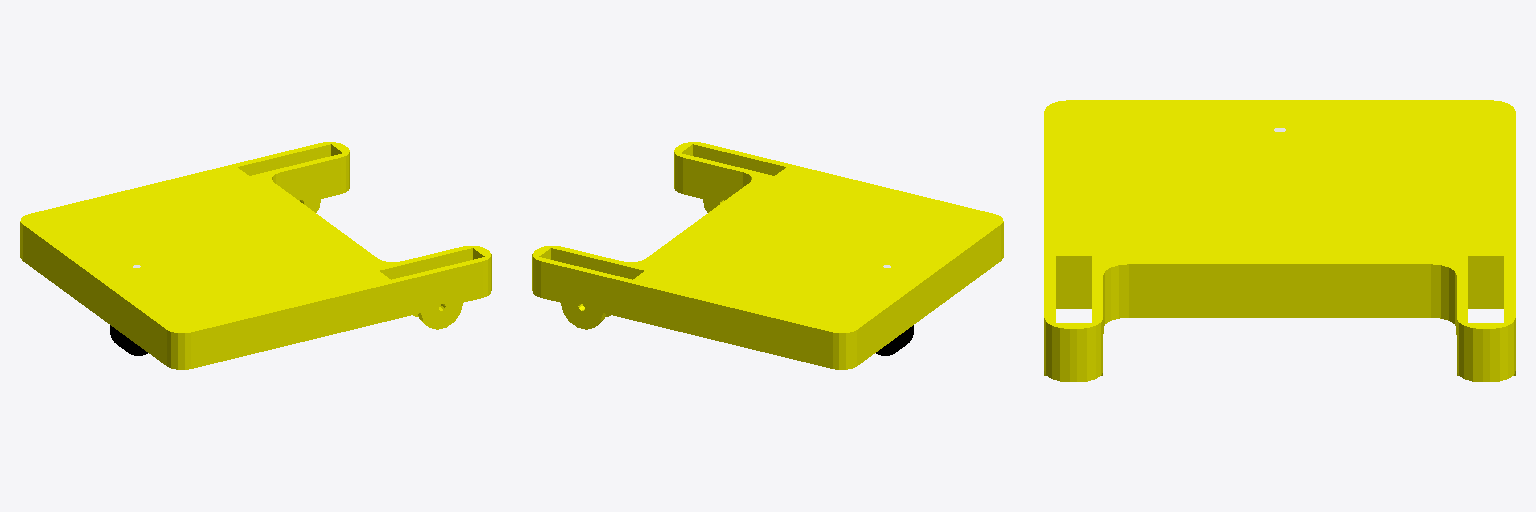
robot.urdf — tricycle_mobile_robot:
<?xml version="1.0" encoding="utf-8"?>

<robot
  name="tricycle_mobile_robot">

  <!-- ROS_CONTROL_PLUGIN -->
  <gazebo>
    <plugin name="gazebo_ros_control" filename="libgazebo_ros_control.so">
      <robotNamespace>/tricycle_mobile_robot</robotNamespace>
      <!--<odometryFrame>odom</odometryFrame>
      <legacyModeNS>false</legacyModeNS>
      <robotBaseFrame>base_footprint</robotBaseFrame>-->
    </plugin>
  </gazebo>

   <link name="base_footprint">
    <inertial>
      <mass value="0.0001" />
      <origin xyz="0 0 0" />
      <inertia ixx="0.0001" ixy="0.0" ixz="0.0"
          iyy="0.0001" iyz="0.0" 
          izz="0.0001" />
    </inertial>
    <visual>
        <origin xyz="0 0 0" rpy="0 0 0" />
        <geometry>
            <box size="0.001 0.001 0.001" />
        </geometry>
    </visual>
  </link>

  <link
    name="base_link">
    <inertial>
      <origin
        xyz="-1.0227 3.8638E-08 -0.12641"
        rpy="0 0 0" />
      <mass
        value="10.0" />
      <inertia
        ixx="306.12"
        ixy="-3.0018E-05"
        ixz="1.2421"
        iyy="241.78"
        iyz="3.9312E-06"
        izz="538.54" />
    </inertial>
    <visual>
      <origin
        xyz="0 0 0"
        rpy="0 0 0" />
      <geometry>
        <mesh
          filename="package://tricycle_mobile_robot/meshes/base_link.STL" />
      </geometry>
      <material
        name="">
        <color
          rgba="1 1 0 1" />
      </material>
    </visual>
    <collision>
      <origin
        xyz="0 0 0"
        rpy="0 0 0" />
      <geometry>
        <mesh
          filename="package://tricycle_mobile_robot/meshes/base_link.STL" />
      </geometry>
    </collision>
  </link>

  <gazebo reference="base_link">
      <material>Gazebo/Yellow</material>
  </gazebo>

  <joint name="base_footprint_joint" type="fixed">
    <origin xyz="0 0 0.574" rpy="0 0 0" />
    <parent link="base_footprint"/>
    <child link="base_link"/>
  </joint>

  <link
    name="wheel_br_link">
    <inertial>
      <origin
        xyz="2.2204E-16 1.1102E-16 -0.125"
        rpy="0 0 0" />
      <mass
        value="0.2" />
      <inertia
        ixx="1.3844"
        ixy="1.2889E-37"
        ixz="2.9387E-36"
        iyy="1.3844"
        iyz="-2.1533E-33"
        izz="2.608" />
    </inertial>
    <visual>
      <origin
        xyz="0 0 0"
        rpy="0 0 0" />
      <geometry>
        <mesh
          filename="package://tricycle_mobile_robot/meshes/wheel_br_link.STL" />
      </geometry>
      <material
        name="">
        <color
          rgba="0 0 0 1" />
      </material>
    </visual>
    <collision>
      <origin
        xyz="0 0 0"
        rpy="0 0 0" />
      <geometry>
        <mesh
          filename="package://tricycle_mobile_robot/meshes/wheel_br_link.STL" />
      </geometry>
    </collision>
  </link>

  <gazebo reference="wheel_br_link">
      <material>Gazebo/Black</material>
  </gazebo>

  <joint
    name="wheel_br_joint"
    type="continuous">
    <origin
      xyz="0 0.75 -0.245"
      rpy="1.5708 0 0" />
    <parent
      link="base_link" />
    <child
      link="wheel_br_link" />
    <axis
      xyz="0 0 1" />
    <limit
      effort="100"
      velocity="100" />
  </joint>
  <link
    name="wheel_bl_link">
    <inertial>
      <origin
        xyz="0 0 -0.125"
        rpy="0 0 0" />
      <mass
        value="0.2" />
      <inertia
        ixx="1.3844"
        ixy="1.2889E-37"
        ixz="-6.5614E-35"
        iyy="1.3844"
        iyz="-2.1533E-33"
        izz="2.608" />
    </inertial>
    <visual>
      <origin
        xyz="0 0 0"
        rpy="0 0 0" />
      <geometry>
        <mesh
          filename="package://tricycle_mobile_robot/meshes/wheel_bl_link.STL" />
      </geometry>
      <material
        name="">
        <color
          rgba="0 0 0 1" />
      </material>
    </visual>
    <collision>
      <origin
        xyz="0 0 0"
        rpy="0 0 0" />
      <geometry>
        <mesh
          filename="package://tricycle_mobile_robot/meshes/wheel_bl_link.STL" />
      </geometry>
    </collision>
  </link>

  <gazebo reference="wheel_bl_link">
      <material>Gazebo/Black</material>
  </gazebo>

  <joint
    name="wheel_bl_joint"
    type="continuous">
    <origin
      xyz="0 -1 -0.245"
      rpy="1.5708 0 0" />
    <parent
      link="base_link" />
    <child
      link="wheel_bl_link" />
    <axis
      xyz="0 0 1" />
    <limit
      effort="100"
      velocity="100" />
  </joint>
  <link
    name="steer_link">
    <inertial>
      <origin
        xyz="0 0 0"
        rpy="0 0 0" />
      <mass
        value="0.1" />
      <inertia
        ixx="0"
        ixy="0"
        ixz="0"
        iyy="0"
        iyz="0"
        izz="0" />
    </inertial>
    <visual>
      <origin
        xyz="0 0 0"
        rpy="0 0 0" />
      <geometry>
        <mesh
          filename="package://tricycle_mobile_robot/meshes/steer_link.STL" />
      </geometry>
      <material
        name="">
        <color
          rgba="1 1 1 1" />
      </material>
    </visual>
    <collision>
      <origin
        xyz="0 0 0"
        rpy="0 0 0" />
      <geometry>
        <mesh
          filename="package://tricycle_mobile_robot/meshes/steer_link.STL" />
      </geometry>
    </collision>
  </link>

  <gazebo reference="steer_link">
      <material>Gazebo/Yellow</material>
  </gazebo>

  <joint
    name="steer_joint"
    type="revolute">
    <origin
      xyz="-1.6 0 0"
      rpy="0 0 0" />
    <parent
      link="base_link" />
    <child
      link="steer_link" />
    <axis
      xyz="0 0 -1" />
    <limit
      lower="-0.7854"
      upper="0.7854"
      effort="1000"
      velocity="1000" />
  </joint>
  <link
    name="front_wheel_link">
    <inertial>
      <origin
        xyz="0 -1.1102E-16 0.075"
        rpy="0 0 0" />
      <mass
        value="0.1" />
      <inertia
        ixx="0.079728"
        ixy="6.074E-39"
        ixz="2.1215E-34"
        iyy="0.079728"
        iyz="-2.3318E-34"
        izz="0.11929" />
    </inertial>
    <visual>
      <origin
        xyz="0 0 0"
        rpy="0 0 0" />
      <geometry>
        <mesh
          filename="package://tricycle_mobile_robot/meshes/front_wheel_link.STL" />
      </geometry>
      <material
        name="">
        <color
          rgba="0 0 0 1" />
      </material>
    </visual>
    <collision>
      <origin
        xyz="0 0 0"
        rpy="0 0 0" />
      <geometry>
        <mesh
          filename="package://tricycle_mobile_robot/meshes/front_wheel_link.STL" />
      </geometry>
    </collision>
  </link>

  <gazebo reference="front_wheel_link">
      <material>Gazebo/Black</material>
  </gazebo>

  <joint
    name="front_wheel_joint"
    type="continuous">
    <origin
      xyz="0 0.075 -0.425"
      rpy="1.5708 0 0" />
    <parent
      link="steer_link" />
    <child
      link="front_wheel_link" />
    <axis
      xyz="0 0 -1" />
    <limit
      effort="10000"
      velocity="1000" />
  </joint>

  <transmission name="steer_trans">
    <type>transmission_interface/SimpleTransmission</type>
    <joint name="steer_joint">
      <hardwareInterface>EffortJointInterface</hardwareInterface>
    </joint>
    <actuator name="steer_motor">
      <hardwareInterface>EffortJointInterface</hardwareInterface>
      <mechanicalReduction>1</mechanicalReduction>
    </actuator>
  </transmission>

  <transmission name="wheel_trans">
    <type>transmission_interface/SimpleTransmission</type>
    <joint name="front_wheel_joint">
      <hardwareInterface>EffortJointInterface</hardwareInterface>
    </joint>
    <actuator name="wheel_motor">
      <hardwareInterface>EffortJointInterface</hardwareInterface>
      <mechanicalReduction>1</mechanicalReduction>
    </actuator>
  </transmission>

  <transmission name="wheel_bl_trans">
    <type>transmission_interface/SimpleTransmission</type>
    <joint name="wheel_bl_joint">
      <hardwareInterface>EffortJointInterface</hardwareInterface>
    </joint>
    <actuator name="wheel_bl_motor">
      <hardwareInterface>EffortJointInterface</hardwareInterface>
      <mechanicalReduction>1</mechanicalReduction>
    </actuator>
  </transmission>

  <transmission name="wheel_br_trans">
    <type>transmission_interface/SimpleTransmission</type>
    <joint name="wheel_br_joint">
      <hardwareInterface>EffortJointInterface</hardwareInterface>
    </joint>
    <actuator name="wheel_br_motor">
      <hardwareInterface>EffortJointInterface</hardwareInterface>
      <mechanicalReduction>1</mechanicalReduction>
    </actuator>
  </transmission>

</robot>

--- Facts derived from the render (not from the file) ---
Views: 3 orthographic renders of the robot side by side, from view 1: azimuth 30°, elevation 25°; view 2: azimuth 150°, elevation 25°; view 3: azimuth 270°, elevation 25°.
Robot: tricycle_mobile_robot — 6 links, 5 joints (1 revolute, 3 continuous, 1 fixed); root link base_footprint; default pose: all joints at 0.
Visible links, largest first — view 1: base_link; view 2: base_link; view 3: base_link.
Link boxes in pixels (left/top/right/bottom): base_link: left=20, top=142, right=491, bottom=369; base_link: left=532, top=142, right=1003, bottom=369; base_link: left=1044, top=100, right=1515, bottom=381.
Size in the robot's own frame: 2.3 by 2 by 0.5749 metres.
Meshes: 5 distinct files referenced, 3 mesh visuals loaded (3 binary STL); not drawn: 2 (reference not matched to a file when rendering).